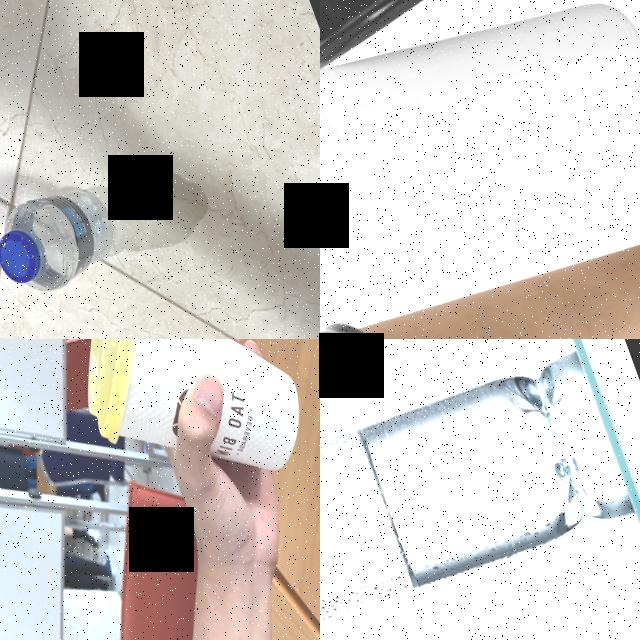bottle: (320, 355, 593, 640), (0, 164, 137, 309)
cup: (320, 0, 640, 282), (42, 339, 320, 525), (320, 182, 640, 339)
